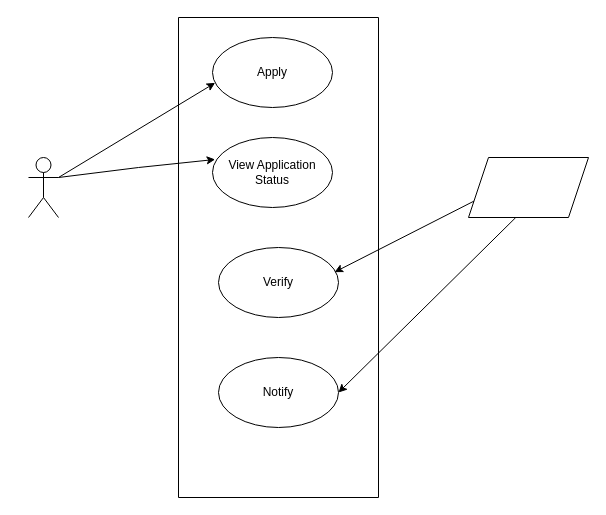
This 606x515 diagram has some shape labels left out. Here are the shapes that lost their labels. From the top down, the centre of each, then its label:
At (x=43, y=187): "Customer".
At (x=528, y=187): "System".
